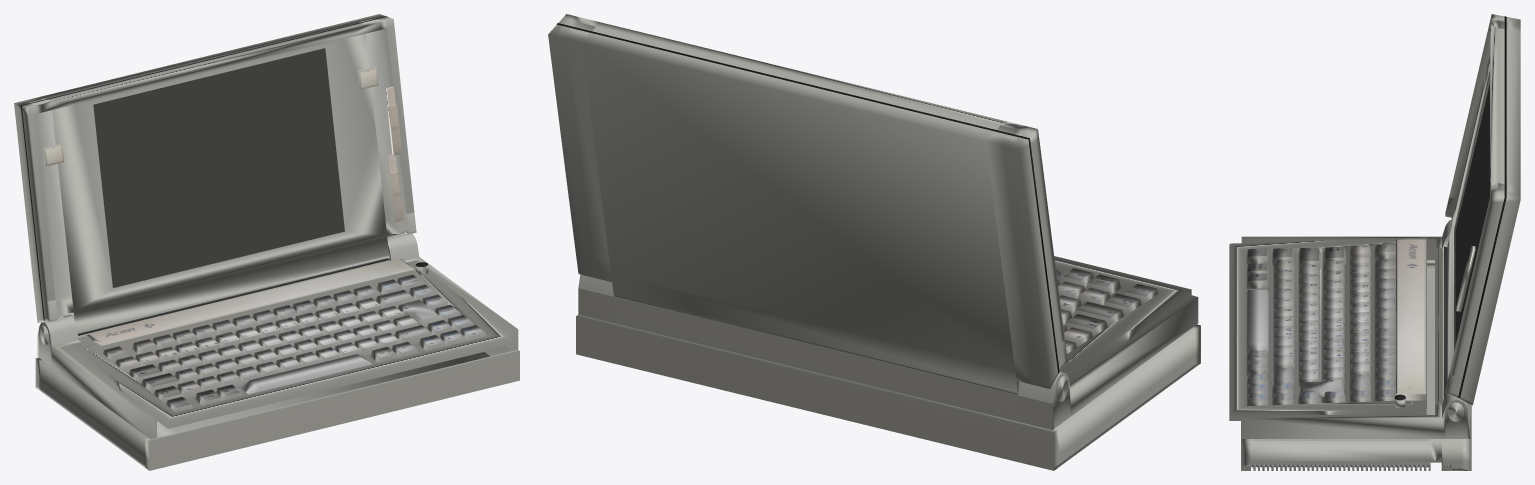
File: acer_anywhere_laptop.glb
3 renders of one model, left to right at view 1: azimuth 30°, elevation 25°; view 2: azimuth 150°, elevation 25°; view 3: azimuth 270°, elevation 25°, orthographic. The views are drawn at different scales.
Visible parts, largest first — view 1: Cube.008; view 2: Cube.008; view 3: Cube.008.
Part boxes in pixels (<box>): Cube.008: <box>14,14,519,470</box>; Cube.008: <box>548,14,1200,470</box>; Cube.008: <box>1229,14,1520,470</box>.
Size of the model in its own units: 6.96 by 4.88 by 4.68.
3 materials, 3 textured.
